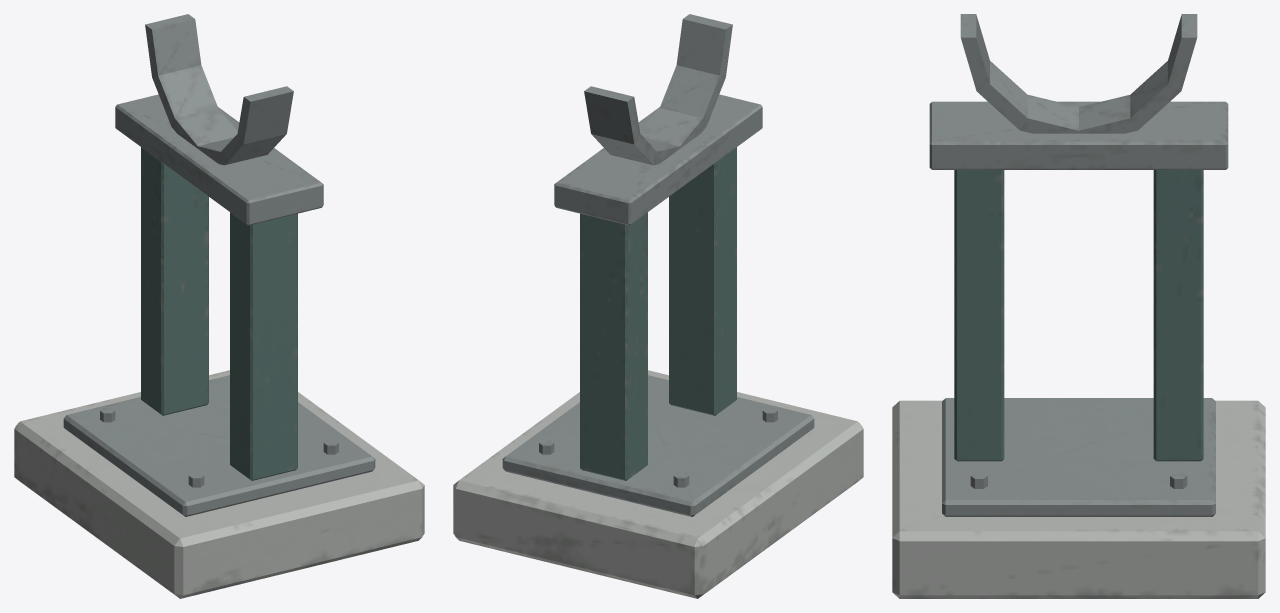
The model's file is district_heating_pipe_support.glb.
The picture shows the model from 3 angles, left to right: view 1: azimuth 30°, elevation 25°; view 2: azimuth 150°, elevation 25°; view 3: azimuth 270°, elevation 25°; orthographic projection. The views are drawn at different scales.
Parts seen in each view (by area): view 1: HeatingPipeSupport; view 2: HeatingPipeSupport; view 3: HeatingPipeSupport.
Part boxes in pixels (x1,y1,x2,y2): HeatingPipeSupport: (14, 14, 424, 598); HeatingPipeSupport: (453, 14, 863, 598); HeatingPipeSupport: (892, 14, 1265, 598).
Size of what is drawn, in the model's own units: 0.52 by 0.9 by 0.6.
Materials: 1 (1 with a texture image).
